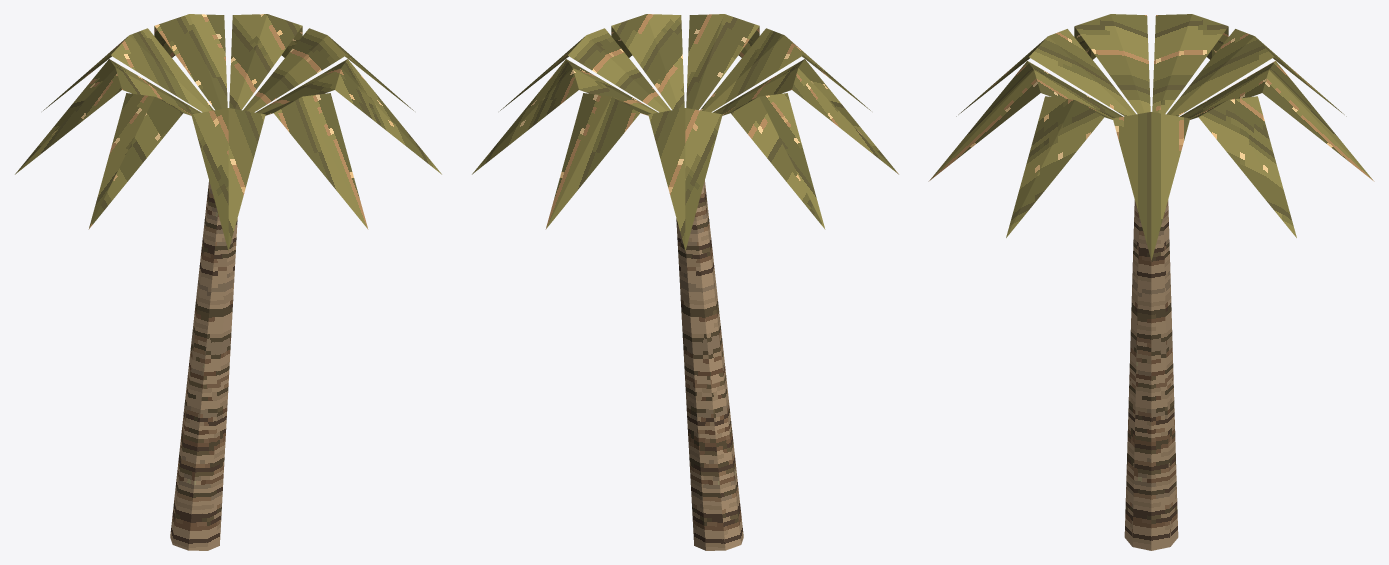
Rendered from arvore_palmeira.fbx.
3 views of the same model, side by side, from view 1: azimuth 30°, elevation 25°; view 2: azimuth 150°, elevation 25°; view 3: azimuth 270°, elevation 25° (orthographic). The views are drawn at different scales.
Parts seen in each view (by area): view 1: deserto_arvore_palmeira; view 2: deserto_arvore_palmeira; view 3: deserto_arvore_palmeira.
Boxes of the visible parts, x1,y1,x2,y2 form: deserto_arvore_palmeira: [15, 14, 441, 550]; deserto_arvore_palmeira: [472, 14, 898, 550]; deserto_arvore_palmeira: [928, 14, 1374, 550].
Bounding box in the file's own units: 147 × 183 × 150.
Materials: 2 (2 with a texture image).
